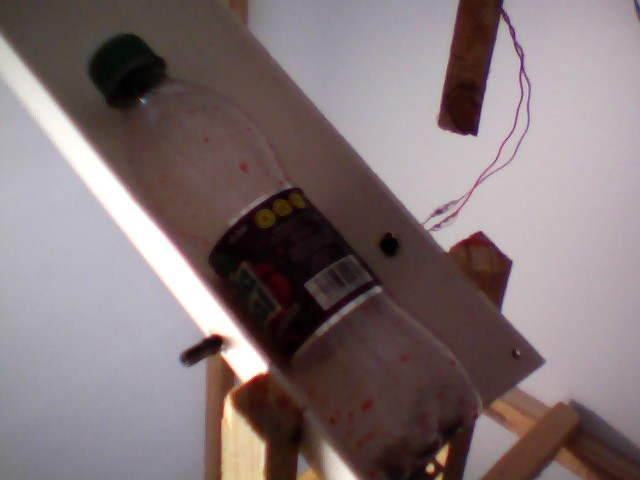plastico: (75, 31, 488, 480)
